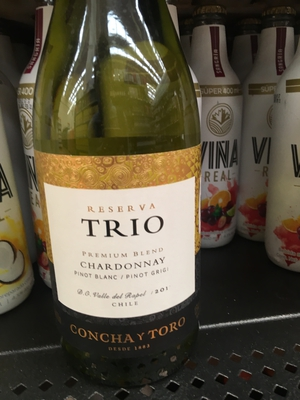trio chardonnay: (33, 14, 209, 369)
